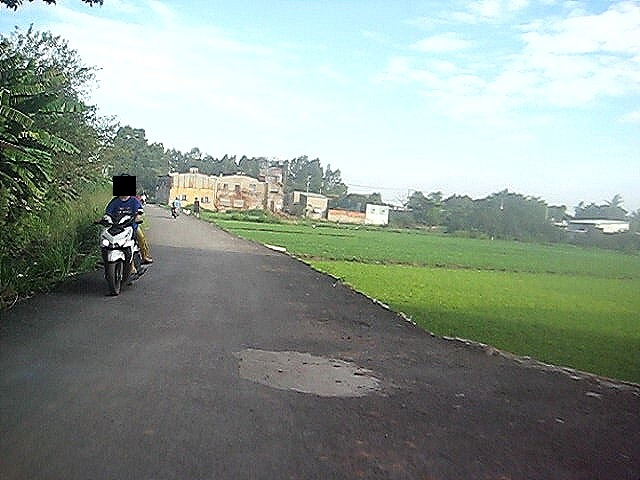hole: (230, 348, 380, 399)
